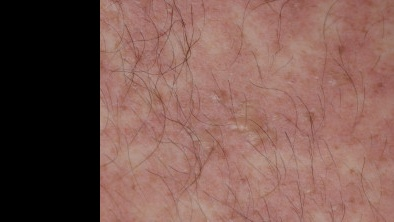SJS-TEN: (98, 4, 391, 222)
